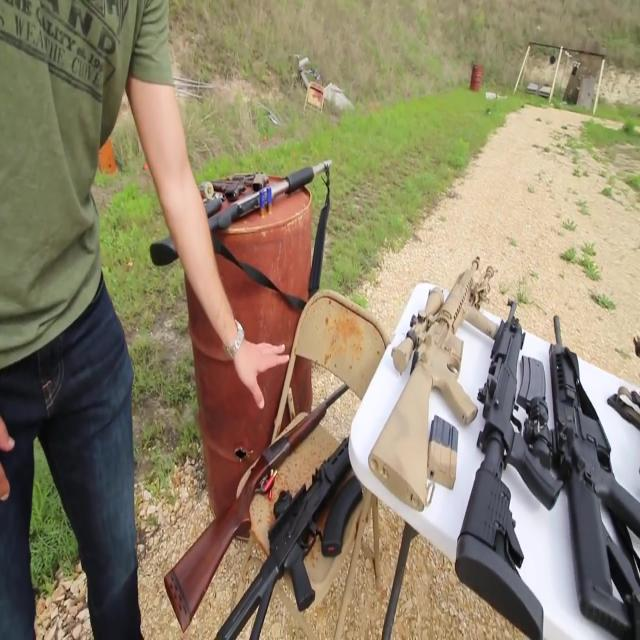Weapon: (390, 204, 640, 634), (122, 487, 398, 630), (124, 117, 350, 275), (211, 405, 401, 493)
